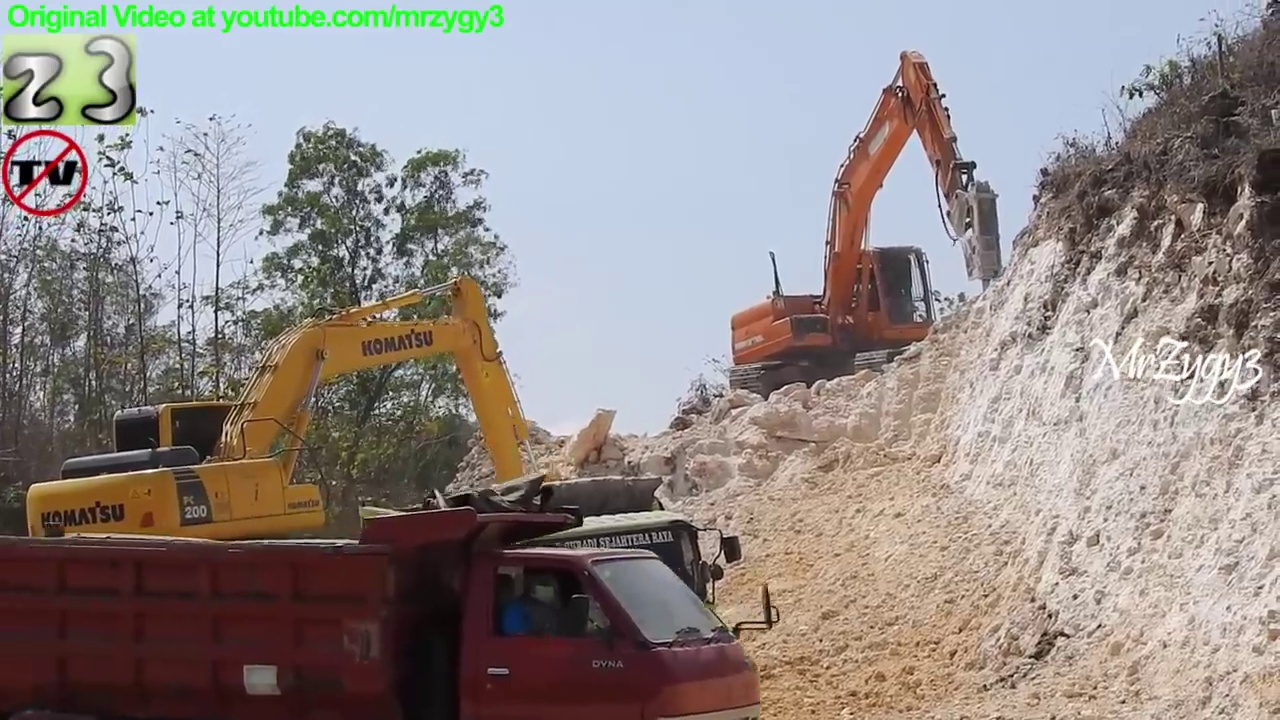excavator: (19, 268, 592, 636), (722, 43, 1012, 414)
truck: (1, 498, 786, 720), (336, 472, 752, 720)
